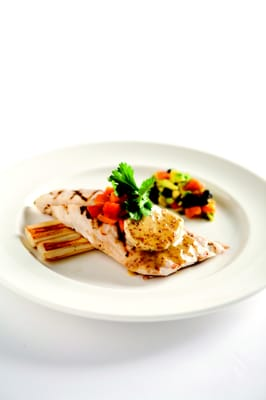soup: (30, 161, 226, 276)
